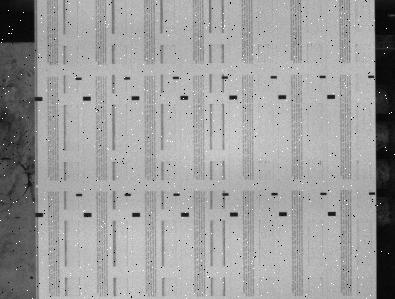backgroundclutter: (30, 277, 33, 280)
qblock: (132, 213, 141, 218), (35, 213, 44, 218), (328, 212, 337, 217), (131, 96, 140, 101), (84, 213, 92, 218), (230, 95, 238, 100), (83, 96, 91, 101), (279, 95, 287, 100), (230, 213, 239, 217), (181, 213, 190, 217), (279, 213, 288, 217), (180, 96, 189, 100), (35, 97, 42, 102), (328, 95, 336, 99)
smallqblock: (320, 75, 327, 79), (223, 193, 230, 197), (76, 194, 83, 197), (271, 76, 278, 79), (75, 77, 82, 80), (173, 77, 180, 80), (124, 77, 131, 80), (125, 194, 131, 197), (272, 193, 278, 196), (174, 194, 180, 197), (321, 193, 327, 196), (370, 192, 376, 195), (369, 75, 375, 78), (222, 76, 228, 79)
